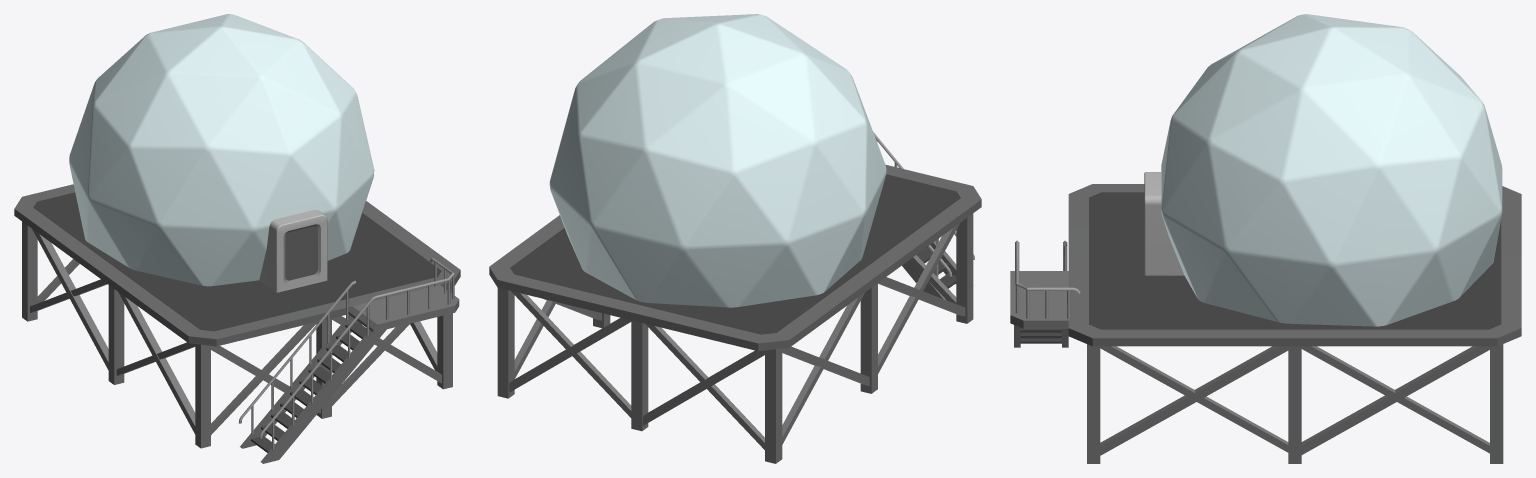
The model's file is arctic_scientific_station_001.fbx.
The picture shows the model from 3 angles, left to right: view 1: azimuth 30°, elevation 25°; view 2: azimuth 150°, elevation 25°; view 3: azimuth 270°, elevation 25°; orthographic projection. The views are drawn at different scales.
Parts seen in each view (by area): view 1: arctic_scientific_station_001; view 2: arctic_scientific_station_001; view 3: arctic_scientific_station_001.
Part boxes in pixels (x1=…): arctic_scientific_station_001: x1=14, y1=14, x2=460, y2=463; arctic_scientific_station_001: x1=489, y1=14, x2=981, y2=463; arctic_scientific_station_001: x1=1010, y1=14, x2=1521, y2=463.
Size of the model in its own units: 996 by 1394 by 1096.
